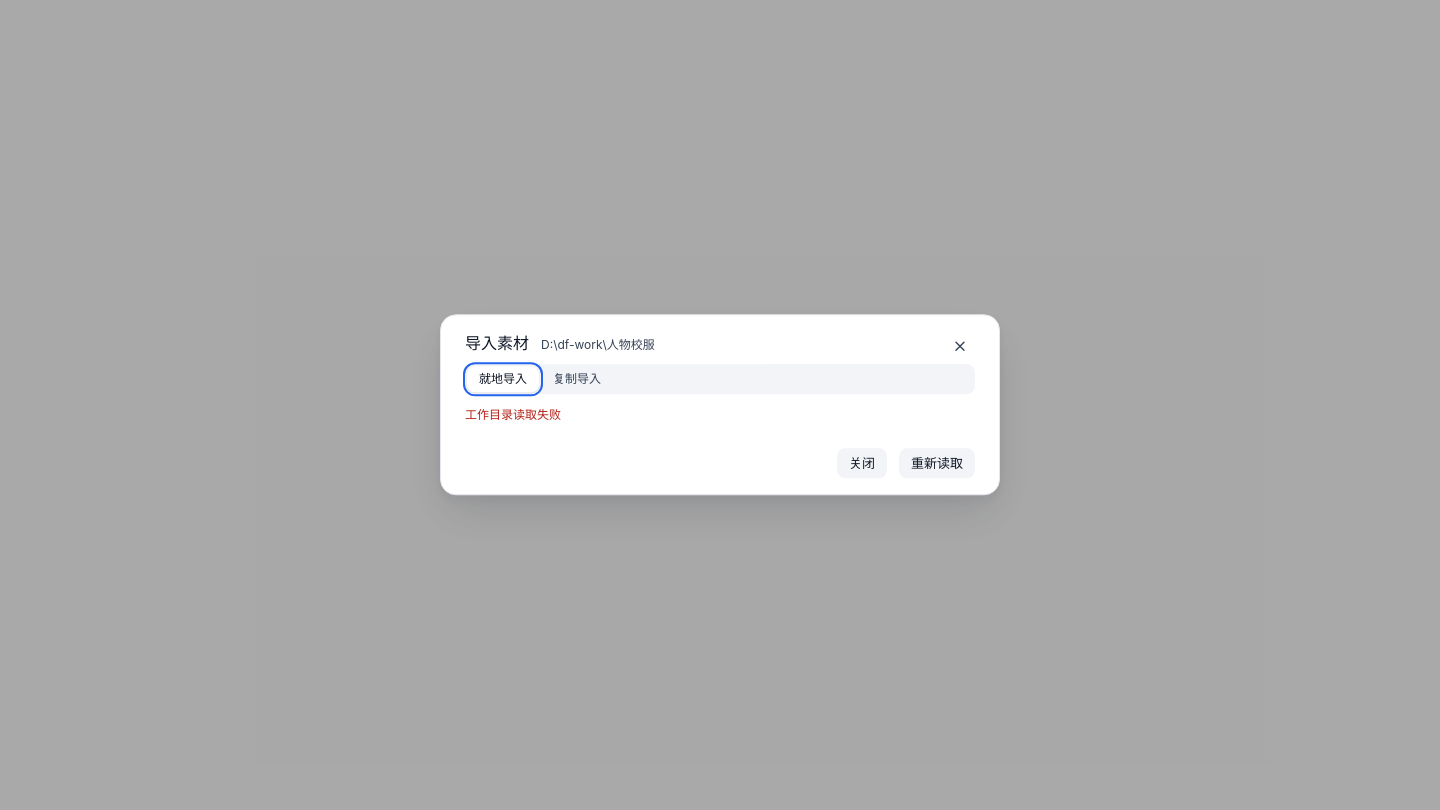
Test: 就地读取失败给红字与页脚重新读取，重读成功回常态且不自动导入
Expected: the message reads "工作目录读取失败", [465,407,561,422]
Step 1. Click the button "重新读取" → (937, 464), box [899,449,975,479]
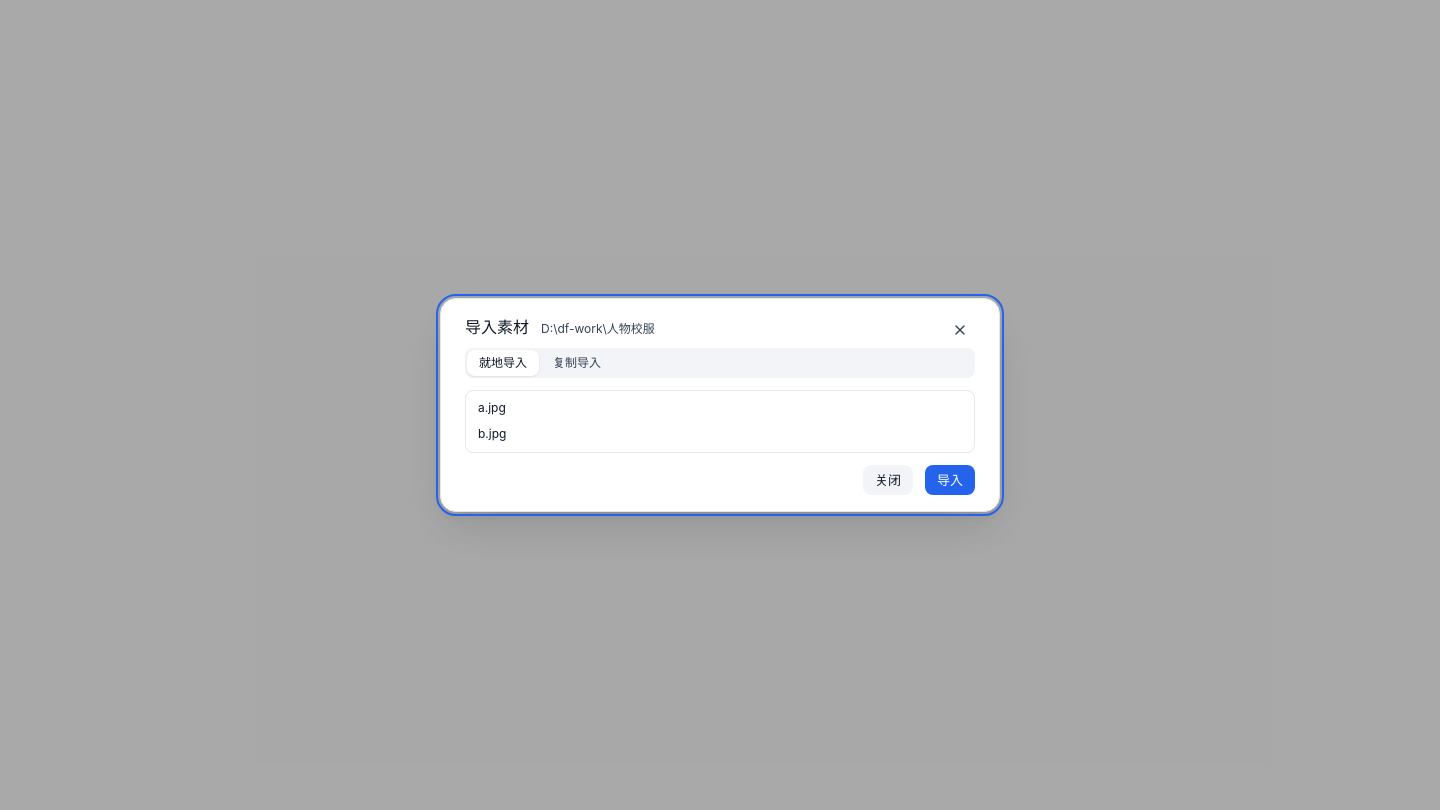
Result: the text "a.jpg" is shown at [478,400,506,415]
